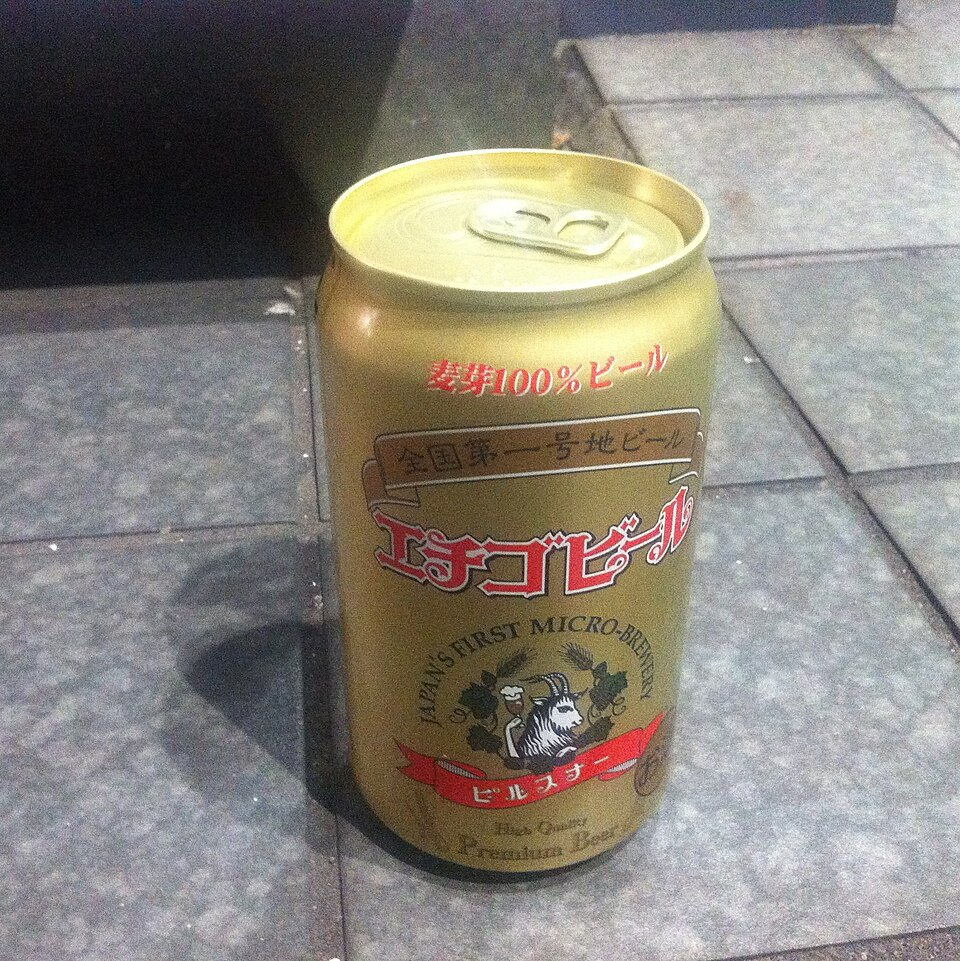beer-can: (299, 139, 735, 914)
